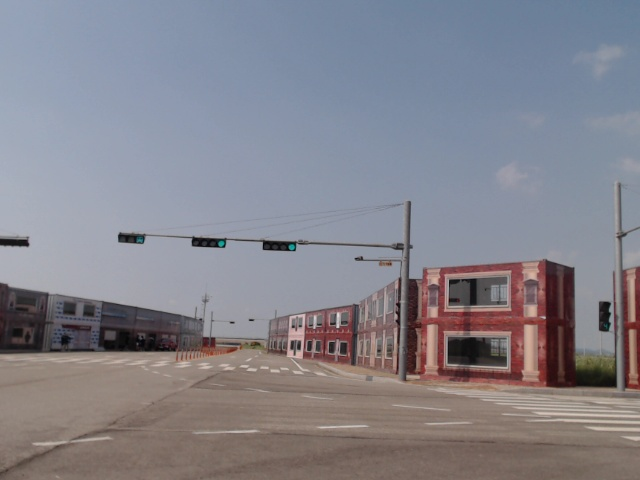straight_green_4: (263, 240, 296, 251), (190, 238, 228, 247)
